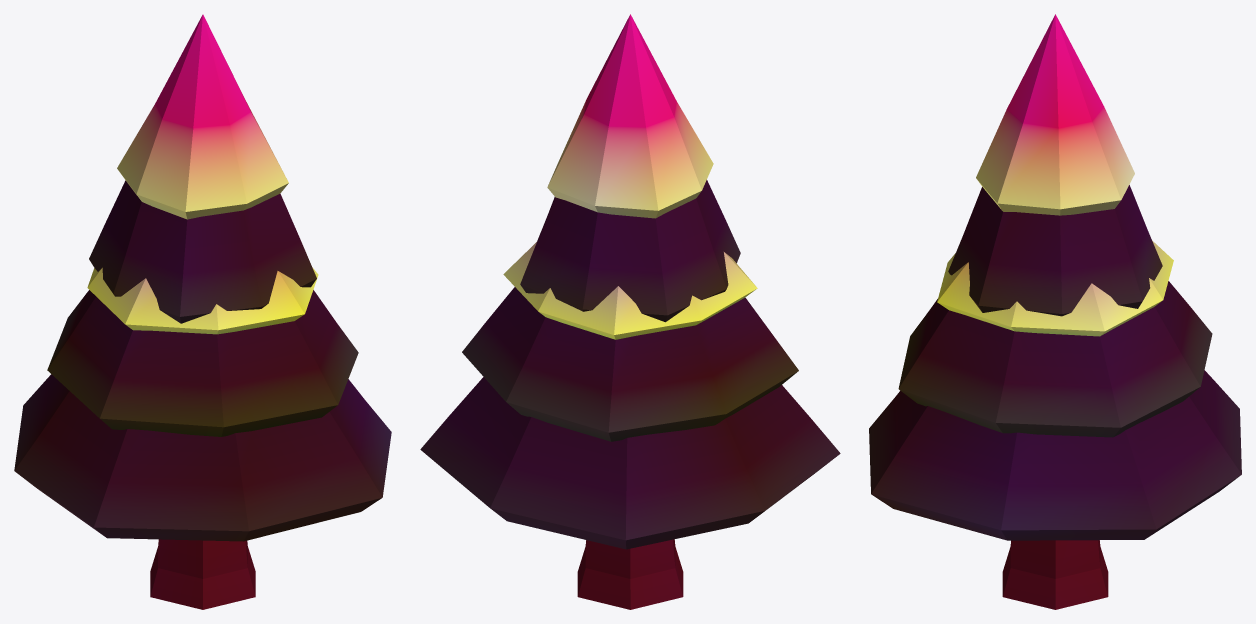
File: Tree_Pine_Snow_Medium.fbx
3 renders of one model, left to right at view 1: azimuth 30°, elevation 25°; view 2: azimuth 150°, elevation 25°; view 3: azimuth 270°, elevation 25°, orthographic.
Visible parts, largest first — view 1: Tree_Pine_Snow_Medium; view 2: Tree_Pine_Snow_Medium; view 3: Tree_Pine_Snow_Medium.
Part boxes in pixels (bbox=[...]): Tree_Pine_Snow_Medium: bbox=[14, 14, 391, 609]; Tree_Pine_Snow_Medium: bbox=[420, 14, 840, 609]; Tree_Pine_Snow_Medium: bbox=[869, 14, 1241, 609].
Bounding box in the file's own units: 2.37 × 4 × 2.37.
